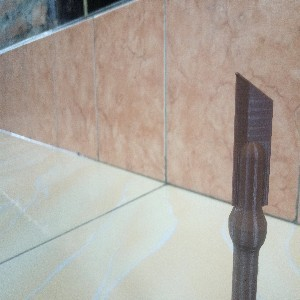cutter: (228, 69, 274, 300)
